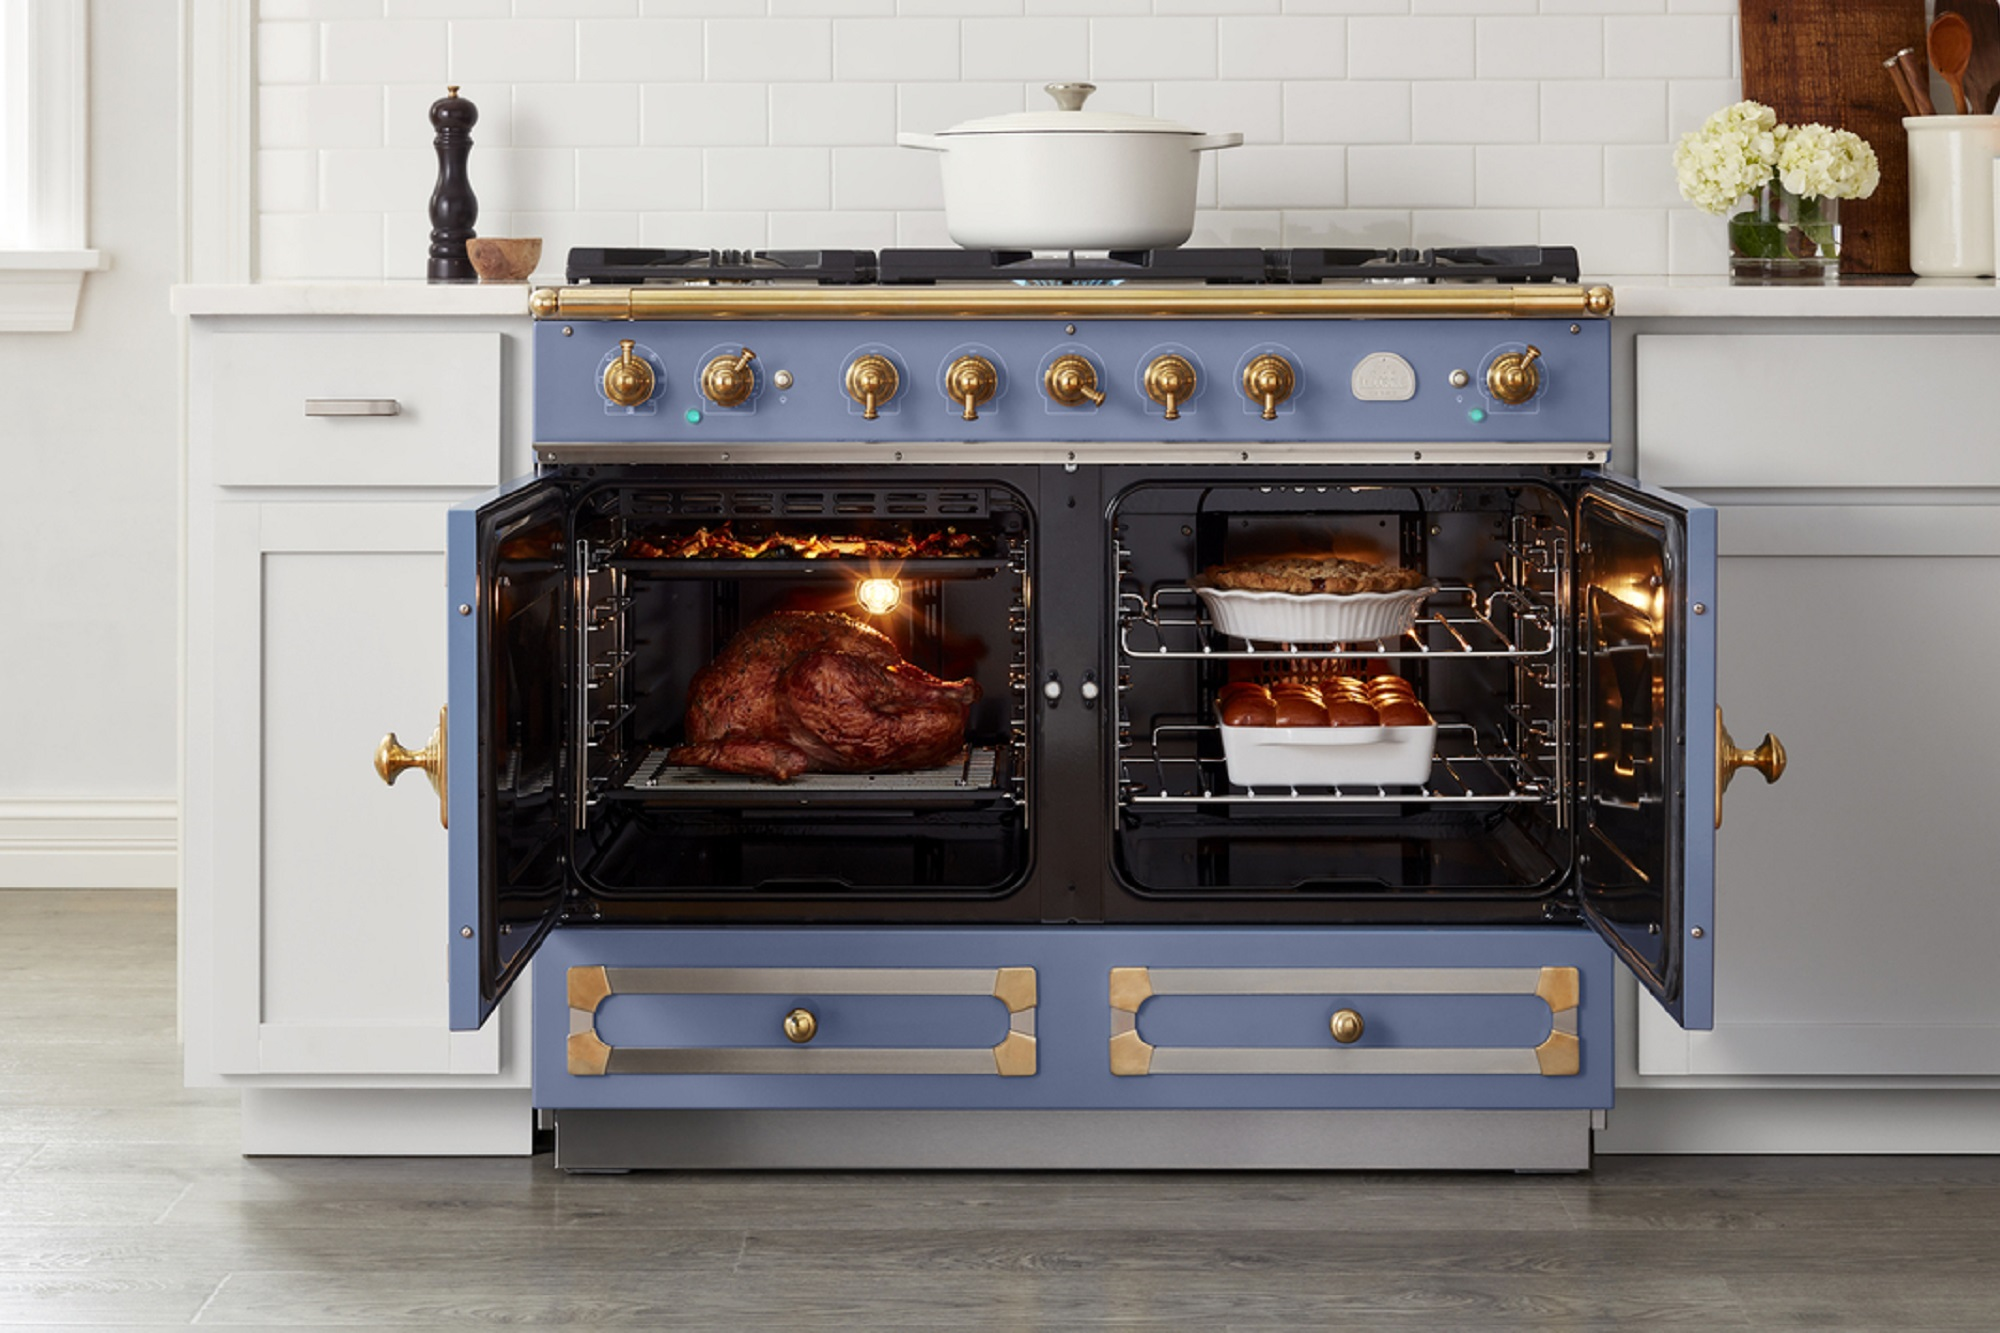stove: (492, 216, 1631, 1166)
